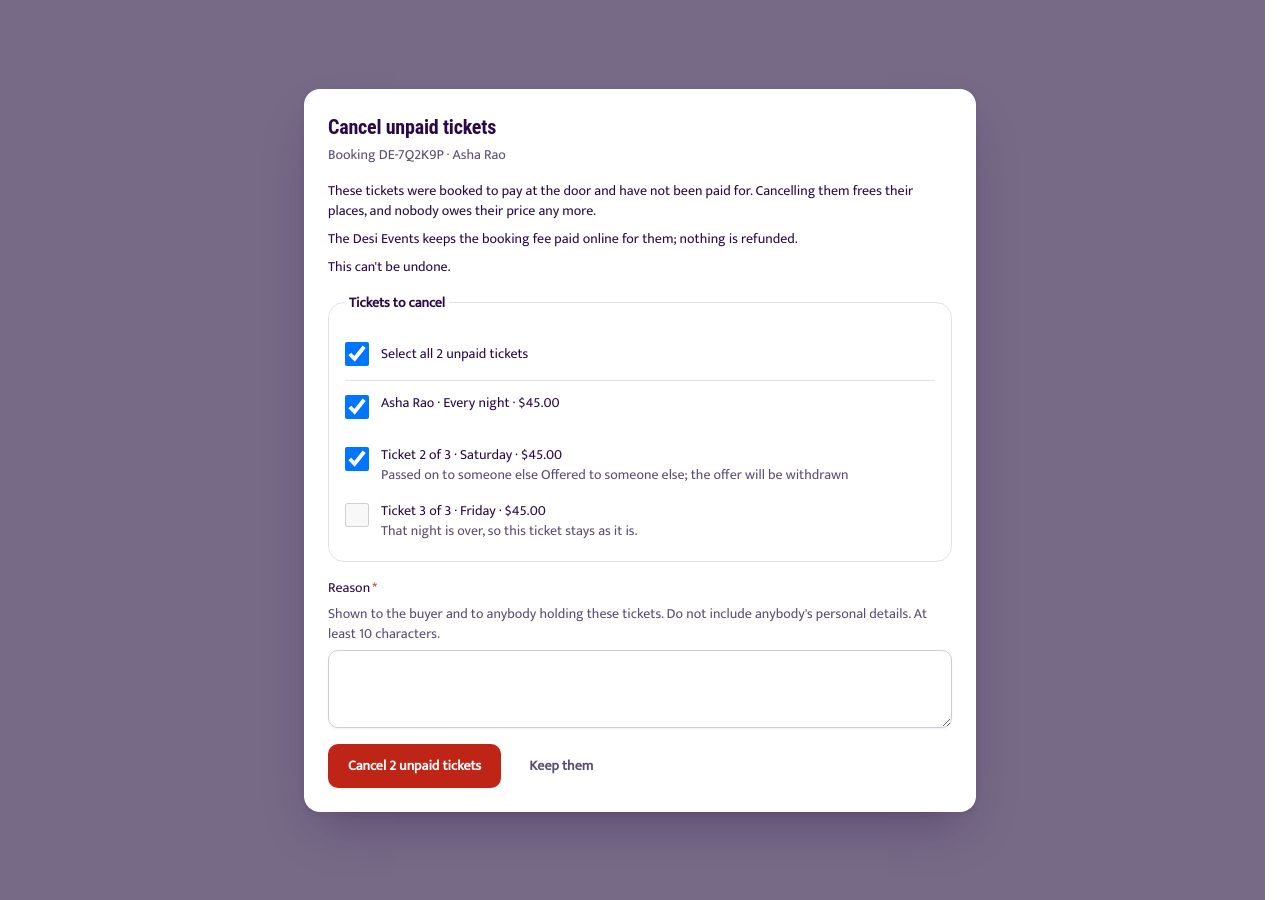
Test: what it reads, and what is ticked to start with › checks "Select all" when all are ticked, unchecks it when none is, and is indeterminate in between
Check: the element "Tickets to cancel" is shown, box [328, 292, 952, 562]
Check: the checkbox labelled "Select all 2 unpaid tickets" is checked, box [345, 342, 369, 366]
Click the checkbox labelled "Asha Rao · Every night · $45.00" at (357, 406), box [345, 394, 369, 418]
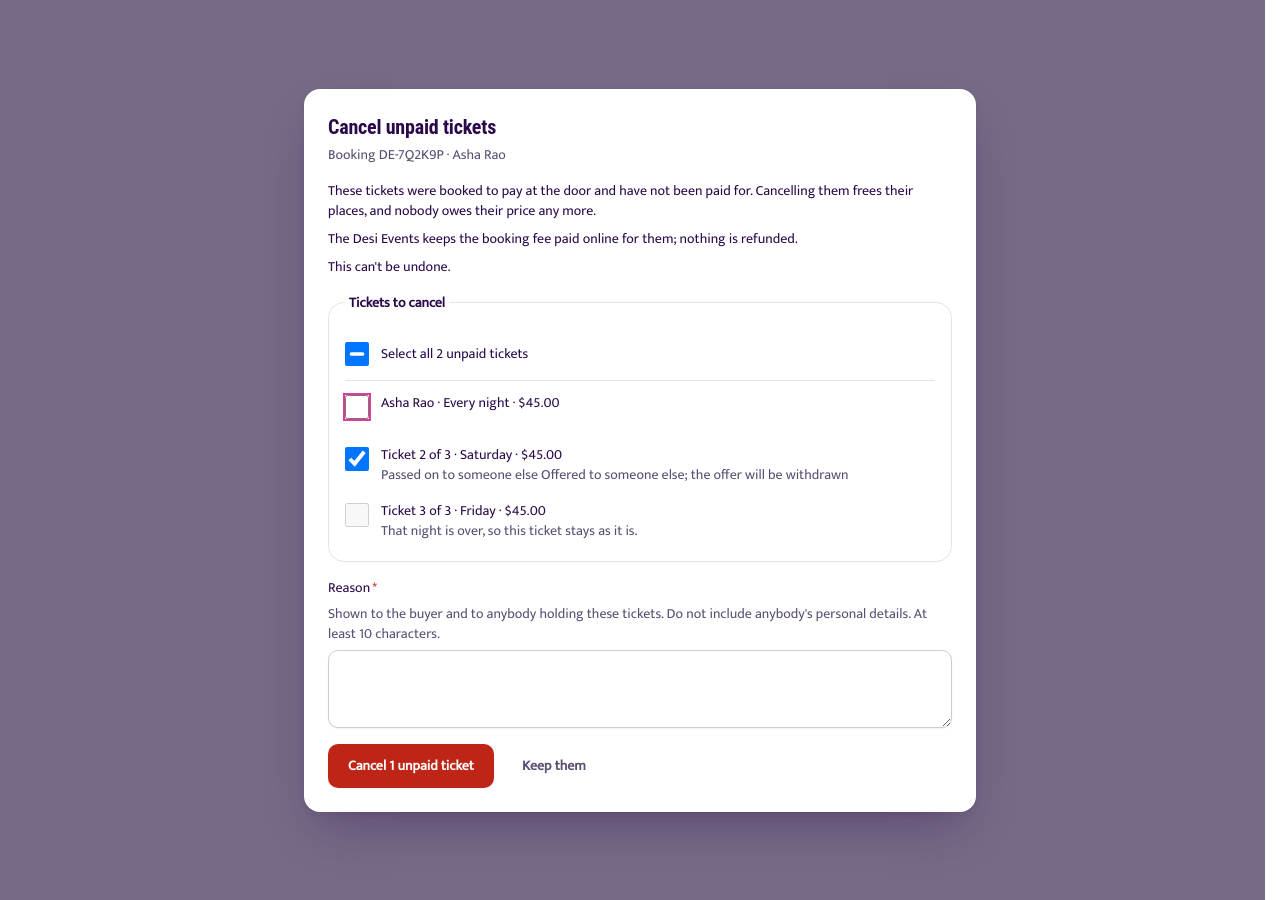
Check: the button "Cancel 1 unpaid ticket" is enabled, box [328, 744, 494, 788]
Check: the checkbox labelled "Select all 2 unpaid tickets" is not checked
Note: From in between, it ticks all.
Click the checkbox labelled "Select all 2 unpaid tickets" at (357, 354), box [345, 342, 369, 366]
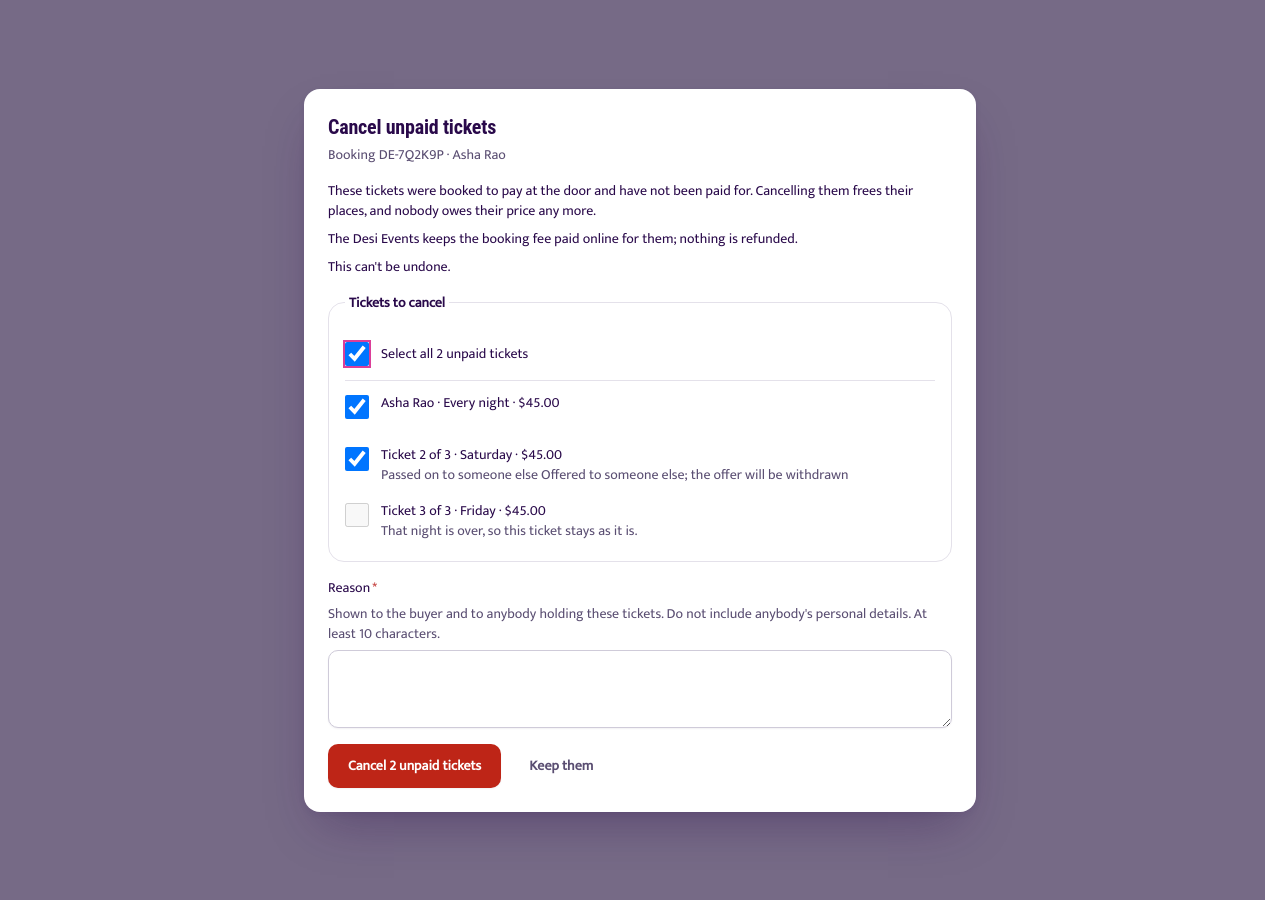
Check: the checkbox labelled "Select all 2 unpaid tickets" is checked
Check: the checkbox labelled "Asha Rao · Every night · $45.00" is checked, box [345, 394, 369, 418]
Click the checkbox labelled "Select all 2 unpaid tickets" at (357, 354), box [345, 342, 369, 366]
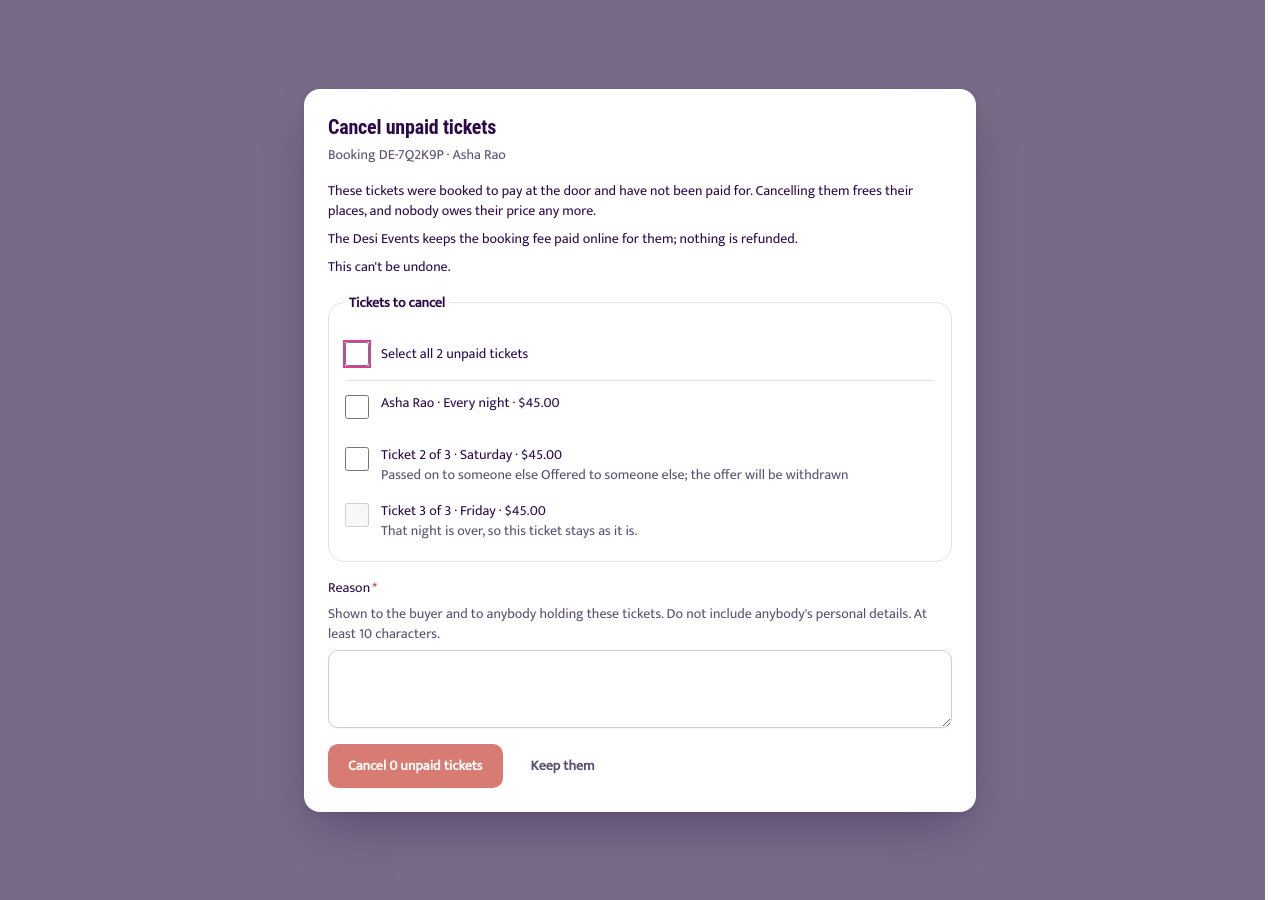
Check: the checkbox labelled "Select all 2 unpaid tickets" is not checked, box [345, 342, 369, 366]
Check: the button "Cancel 0 unpaid tickets" is disabled, box [328, 744, 503, 788]
